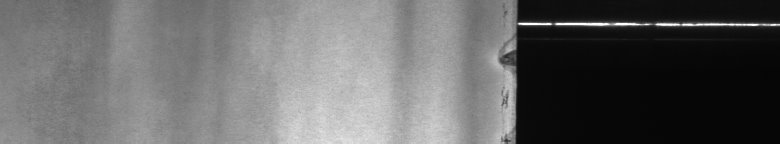hb: (491, 44, 504, 111)
